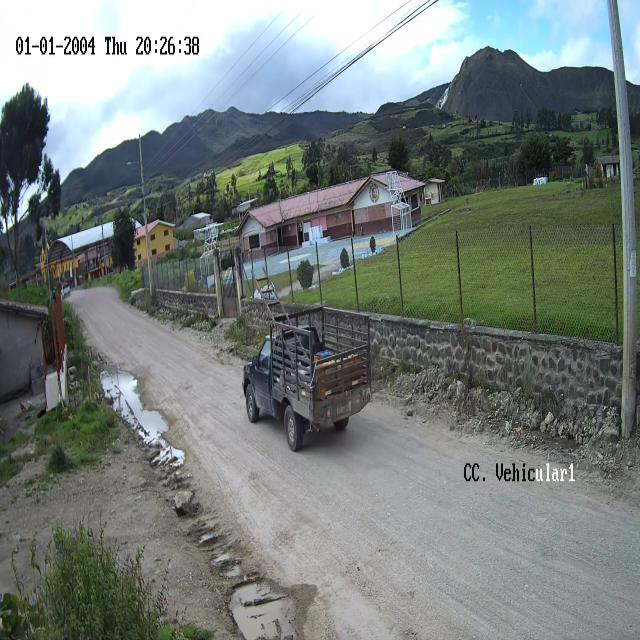CMT: (243, 325, 370, 452)
